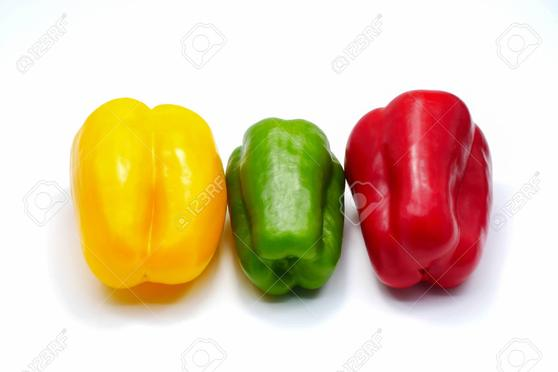pepper: (346, 92, 492, 294)
